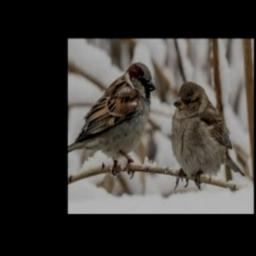Sparrow: (68, 62, 156, 179), (171, 81, 246, 191)
